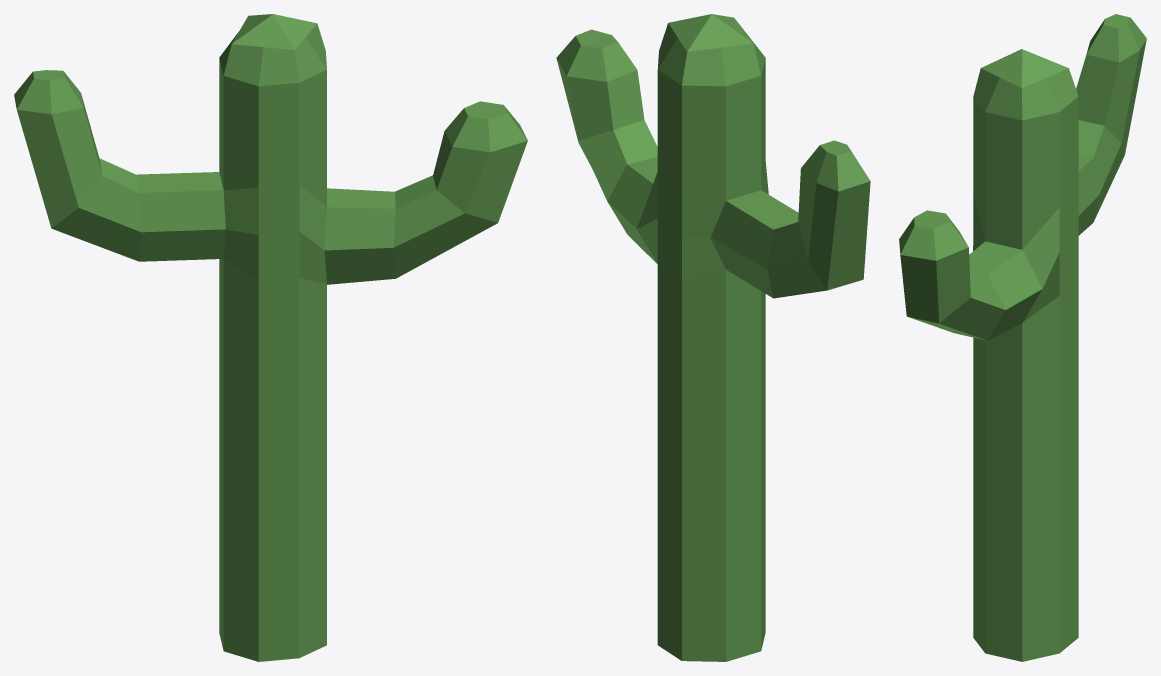
The model's file is Cactus.fbx.
3 views of the same model, side by side, from view 1: azimuth 30°, elevation 25°; view 2: azimuth 150°, elevation 25°; view 3: azimuth 270°, elevation 25° (orthographic). The views are drawn at different scales.
Parts seen in each view (by area): view 1: Cactus 1; view 2: Cactus 1; view 3: Cactus 1.
Part boxes in pixels (x1,y1,x2,y2): Cactus 1: [14, 14, 527, 661]; Cactus 1: [556, 14, 870, 661]; Cactus 1: [899, 14, 1146, 661].
Size of the model in its own units: 3.2 by 4.67 by 1.78.
